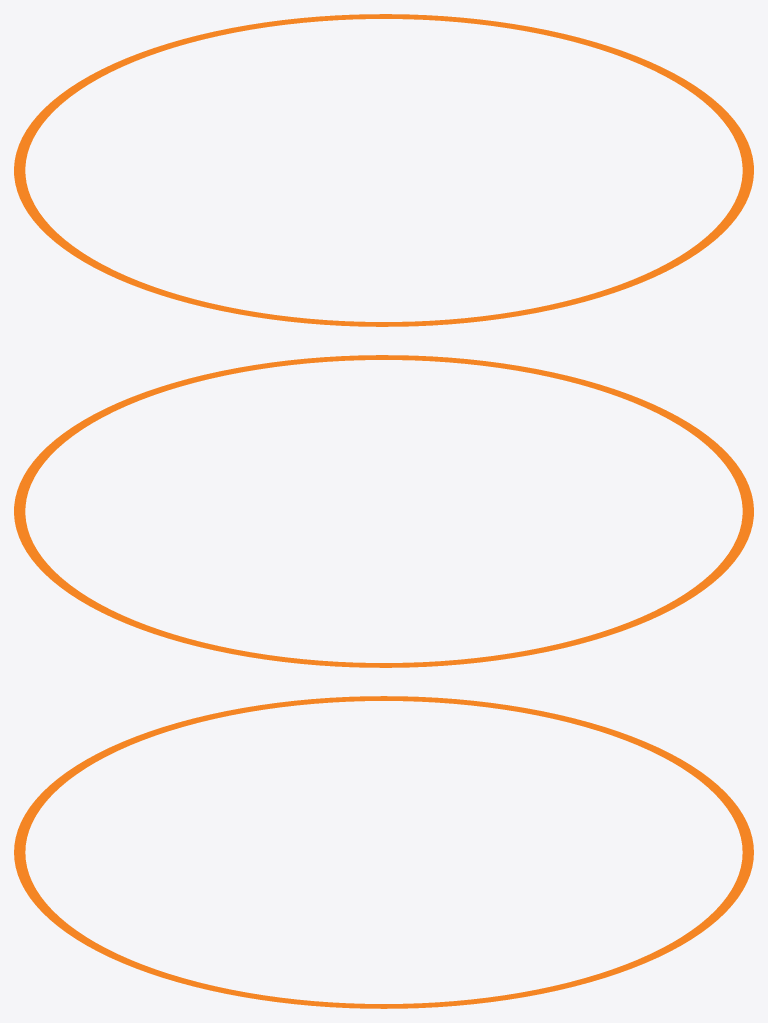
3 views of the same model, one above another, from view 1: azimuth 30°, elevation 25°; view 2: azimuth 150°, elevation 25°; view 3: azimuth 270°, elevation 25° (orthographic).
Bounding box in the file's own units: 13 × 0 × 13.
Materials: 1 (1 with a texture image).
